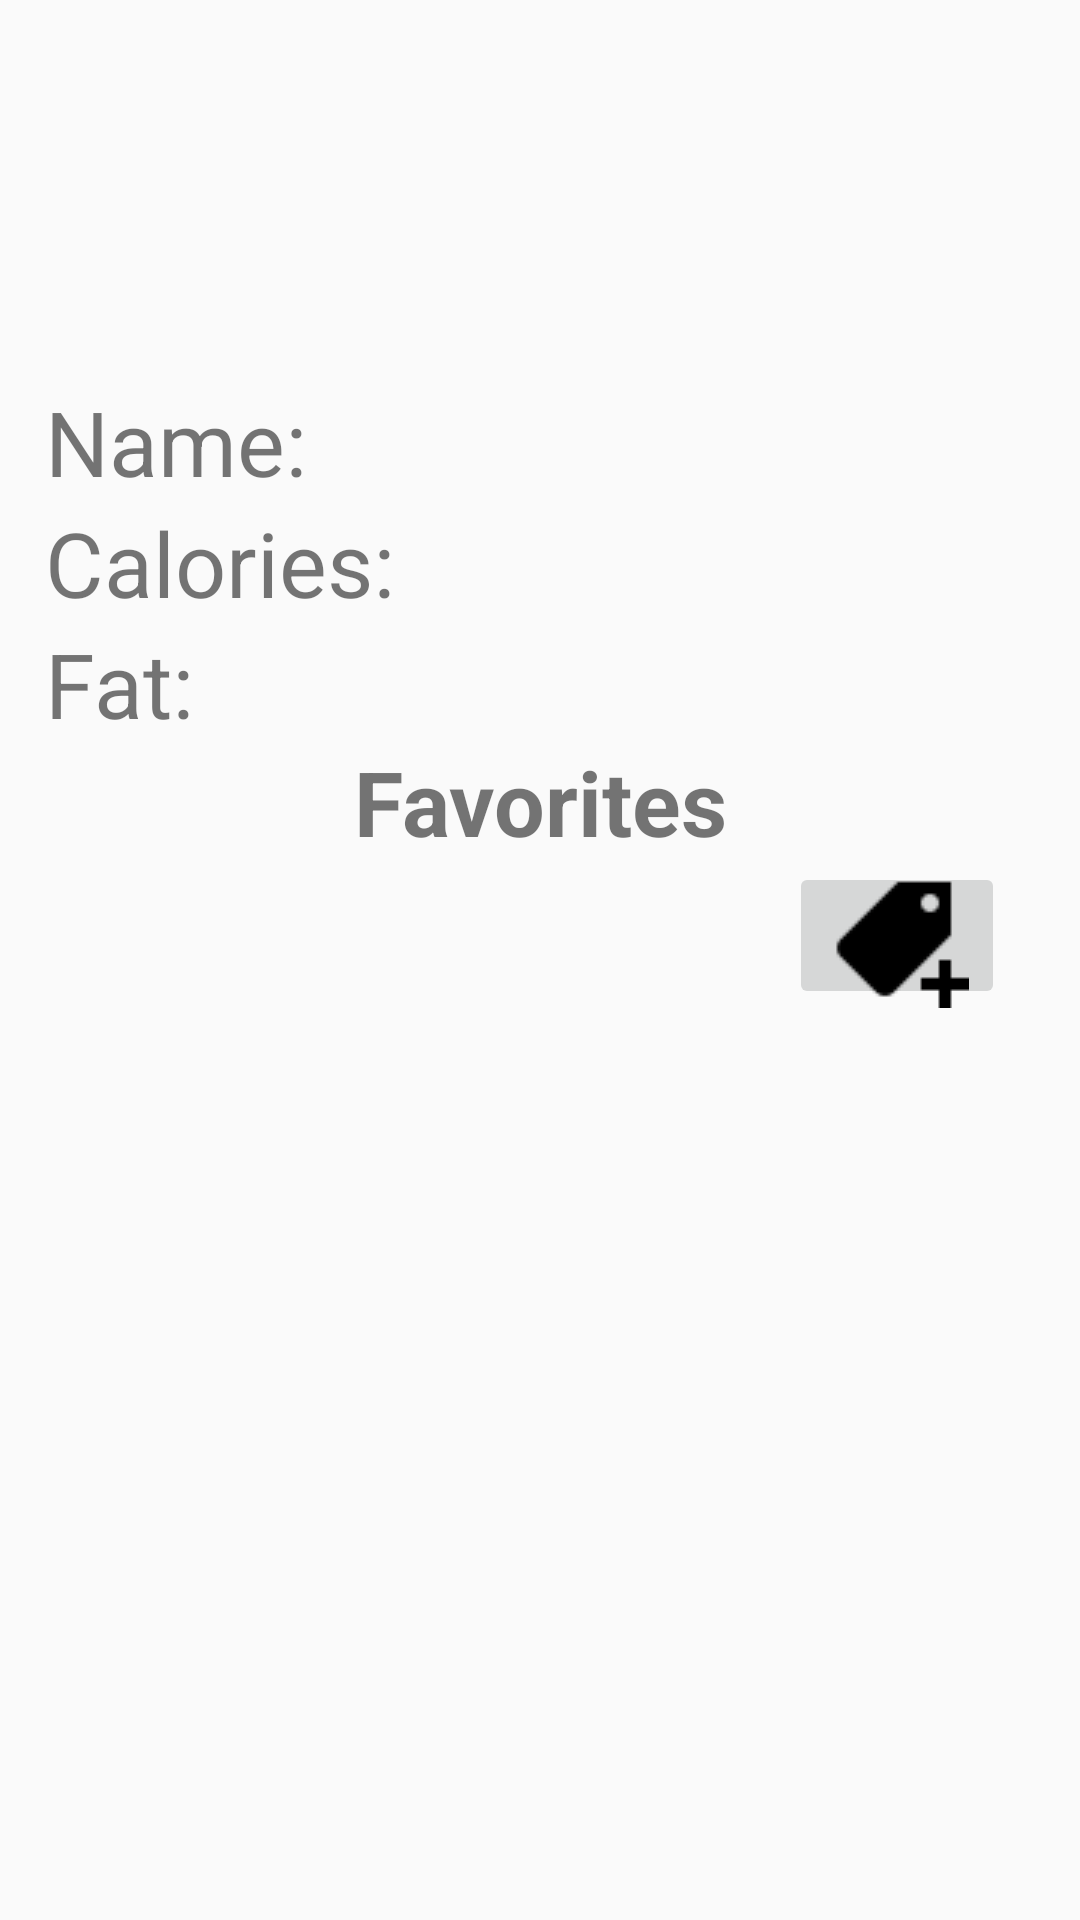

Icon click points for this 1080*1920 phone screenshot, format point (x, y):
food add tag: point (897, 944)
